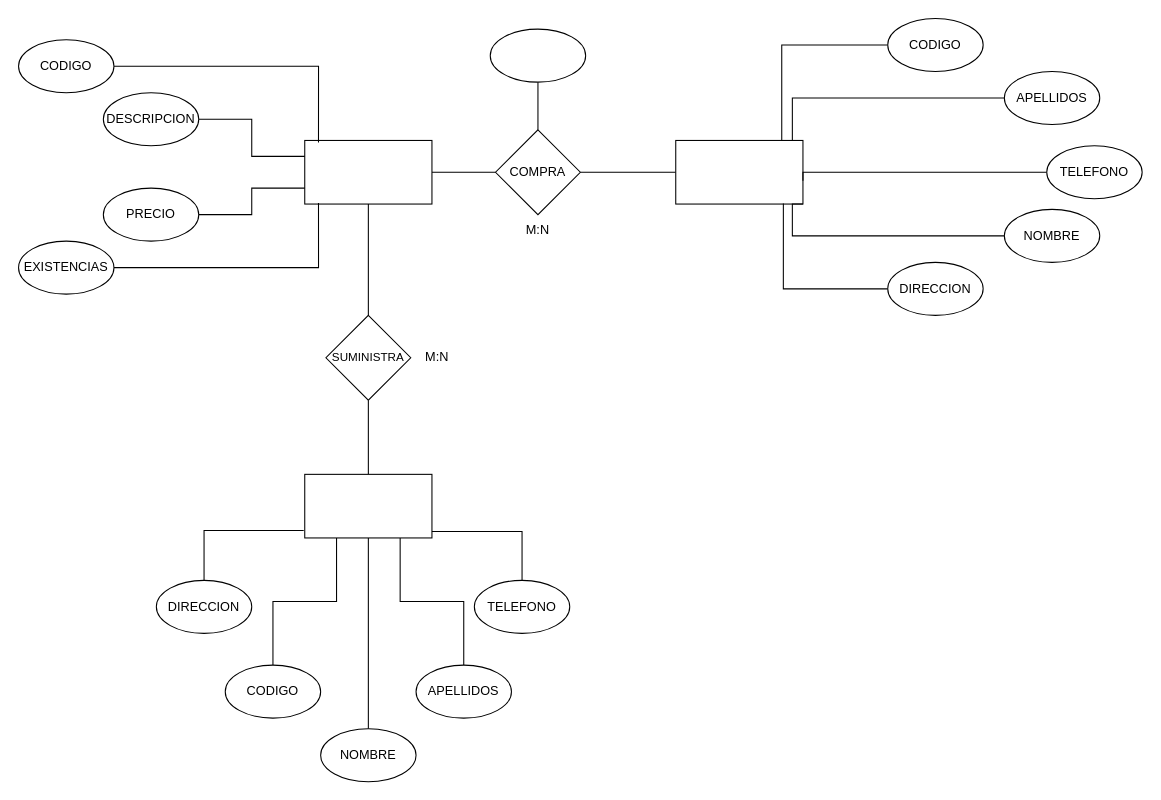
The diagram is 1161 pixels wide and 800 high, and some of its shapes have lost their labels. The shapes that lost their labels are listed below. From the top down, each one's box as (x1, y1, x2, y2) in pixels, then its label:
(489, 28, 586, 82): FECHA COMPRA
(304, 139, 432, 204): PRODUCTO
(675, 139, 803, 204): CLIENTE
(304, 473, 432, 538): PROVEEDOR
